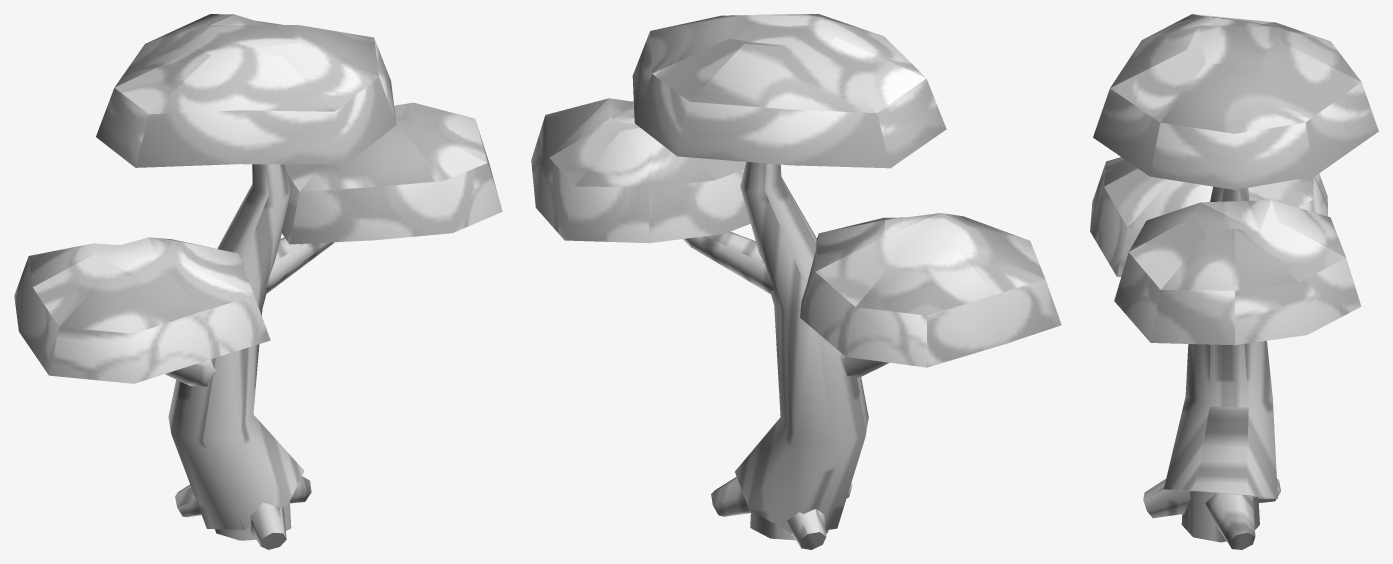
Rendered from bonsai_a.obj.
3 views of the same model, side by side, from view 1: azimuth 30°, elevation 25°; view 2: azimuth 150°, elevation 25°; view 3: azimuth 270°, elevation 25° (orthographic). The views are drawn at different scales.
Visible parts, largest first — view 1: source_component_005, source_component_003, source_component_004, source_component_000, source_component_002, source_component_008, source_component_001; view 2: source_component_005, source_component_003, source_component_000, source_component_004, source_component_002, source_component_007, source_component_006, source_component_009, source_component_001; view 3: source_component_005, source_component_004, source_component_000, source_component_003, source_component_006, source_component_009, source_component_008.
Part boxes in pixels (x1,y1,x2,y2): source_component_005: [96, 14, 396, 167]; source_component_003: [14, 237, 270, 383]; source_component_004: [281, 102, 502, 244]; source_component_000: [168, 164, 304, 529]; source_component_002: [265, 237, 334, 293]; source_component_008: [248, 502, 286, 549]; source_component_001: [165, 359, 216, 386]; source_component_005: [632, 14, 946, 168]; source_component_003: [800, 213, 1061, 367]; source_component_000: [735, 162, 868, 533]; source_component_004: [531, 98, 750, 243]; source_component_002: [683, 231, 773, 294]; source_component_007: [787, 509, 826, 549]; source_component_006: [711, 477, 750, 516]; source_component_009: [750, 511, 828, 540]; source_component_001: [840, 354, 889, 378]; source_component_005: [1093, 14, 1378, 189]; source_component_004: [1114, 200, 1361, 345]; source_component_000: [1164, 186, 1277, 499]; source_component_003: [1090, 157, 1327, 276]; source_component_006: [1205, 493, 1255, 549]; source_component_009: [1181, 491, 1259, 542]; source_component_008: [1143, 479, 1190, 518].
Bounding box in the file's own units: 0.9923 × 0.9681 × 0.5164.
